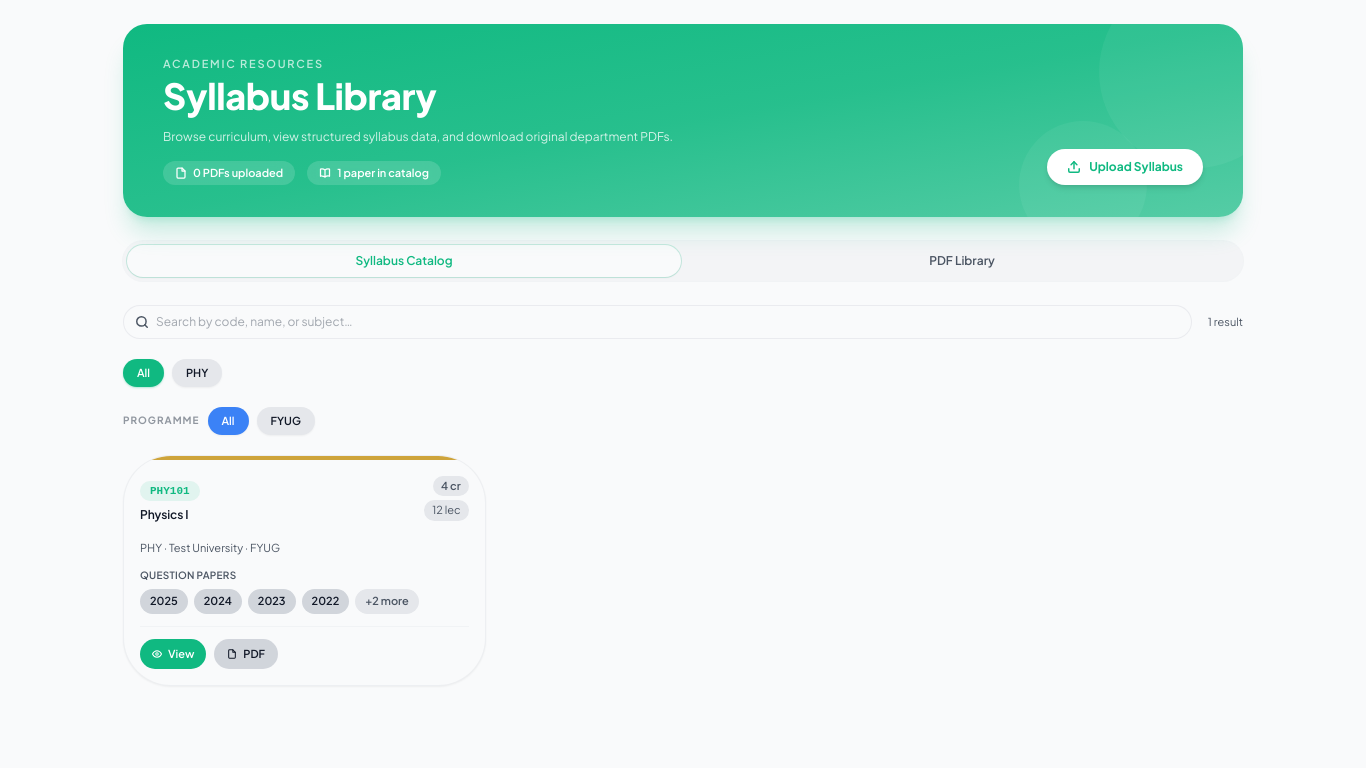
SyllabusCatalogClient › shows expand/collapse button when paper has more than 4 question-paper years
Click the button "+2 more" at (387, 602), box 355,589 -> 419,614
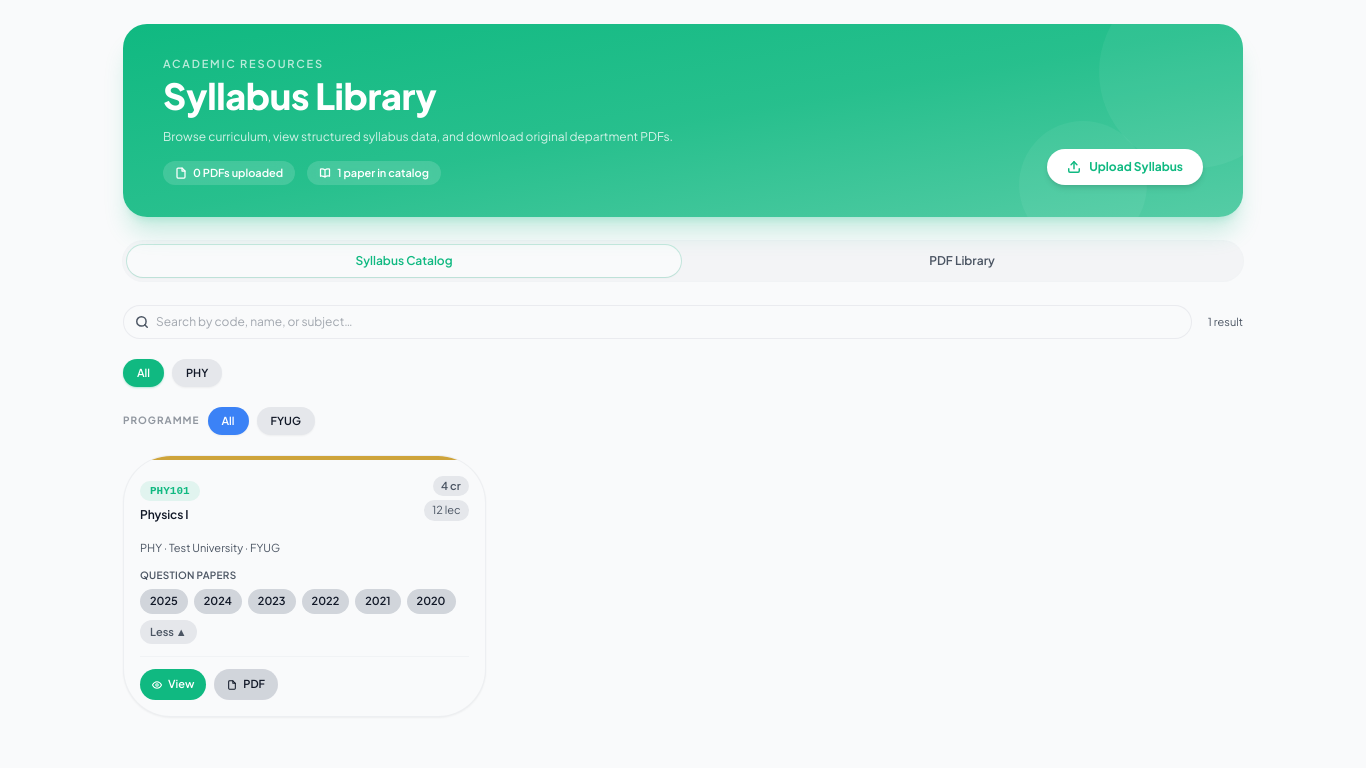
Check: the button "Less ▲" is shown
Note: Collapse again
Click the button "Less ▲" at (168, 632), box 140,620 -> 197,644
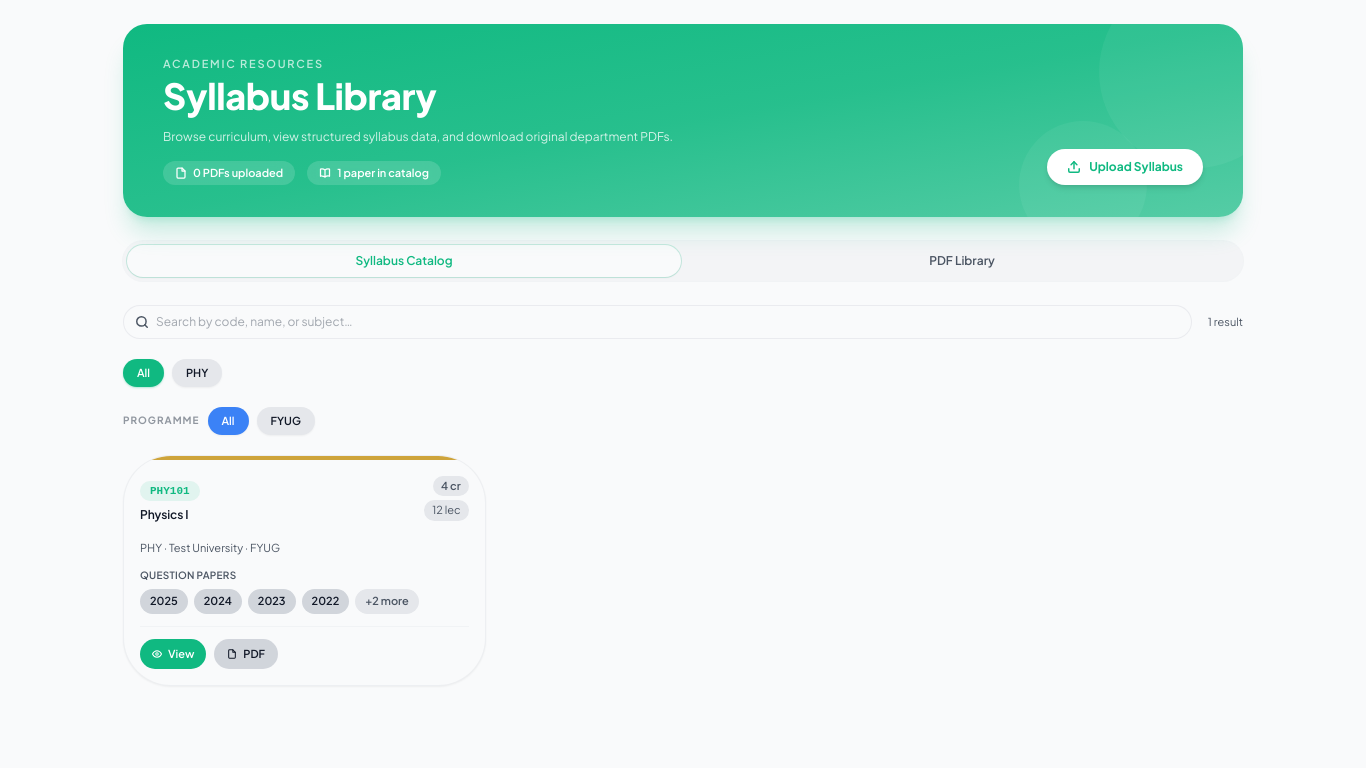
Check: the button "+2 more" is shown, box 355,589 -> 419,614
